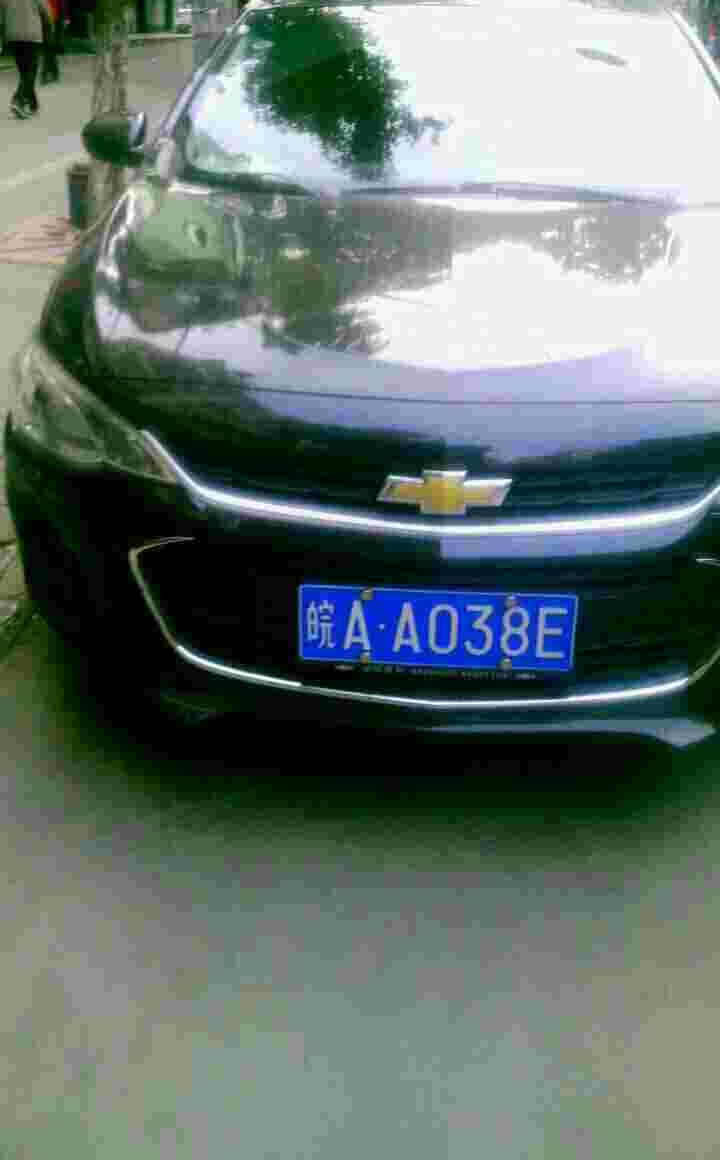license_plate: (298, 584, 578, 681)
